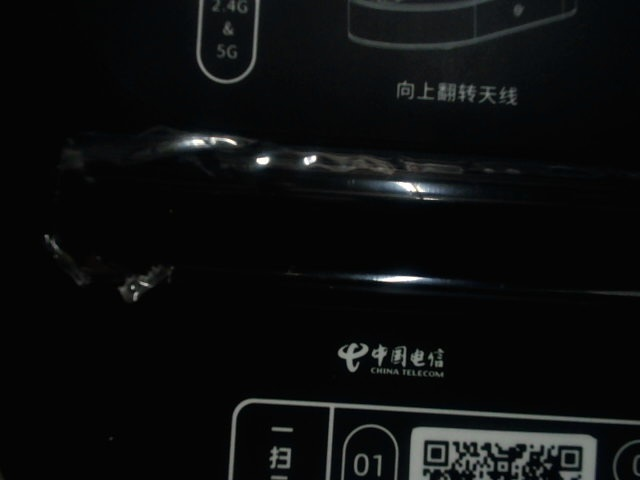AB_ChinaTelecom: (332, 329, 452, 382)
